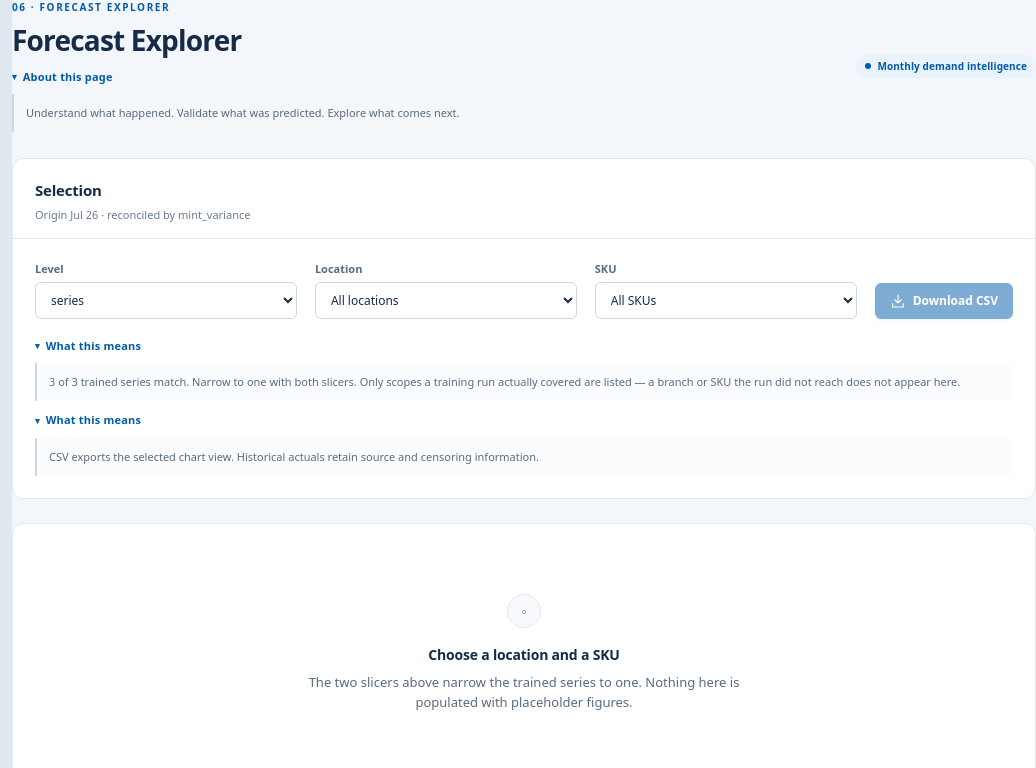
Test: ForecastExplorerPage slicers › resolves from one slicer when that alone leaves a single series
Select "SKU-B" in the dropdown labelled "SKU": [726, 300] box 595,282 -> 857,319
(page scrolled)
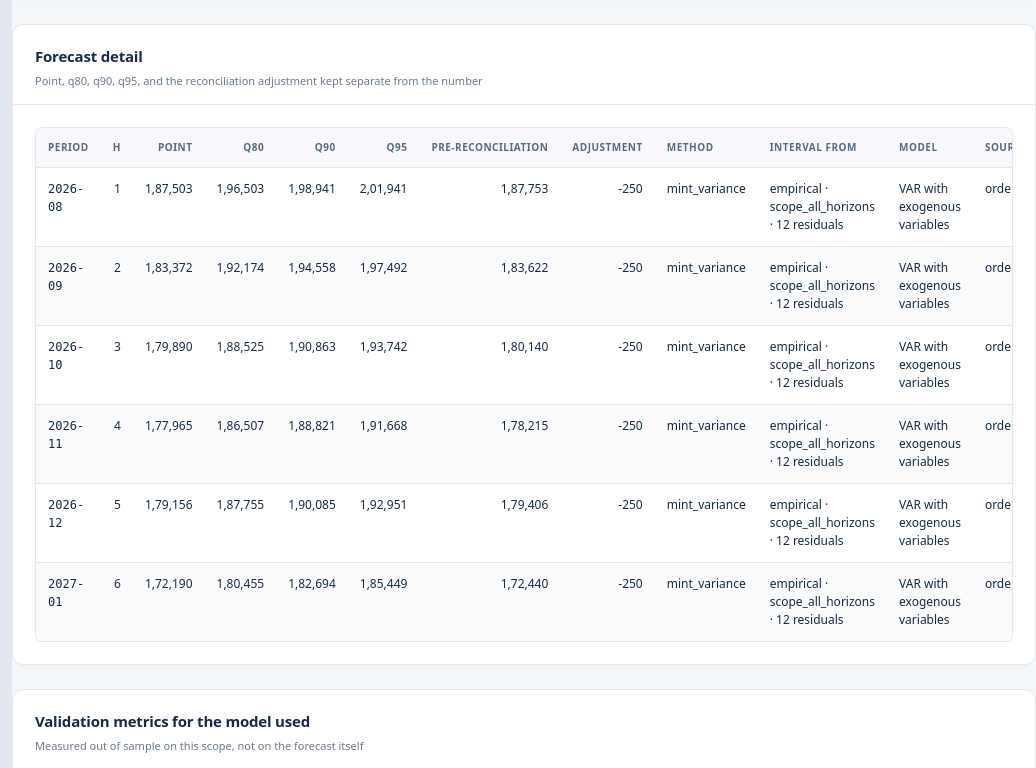
Check: the table with test id "forecast-table" is shown
